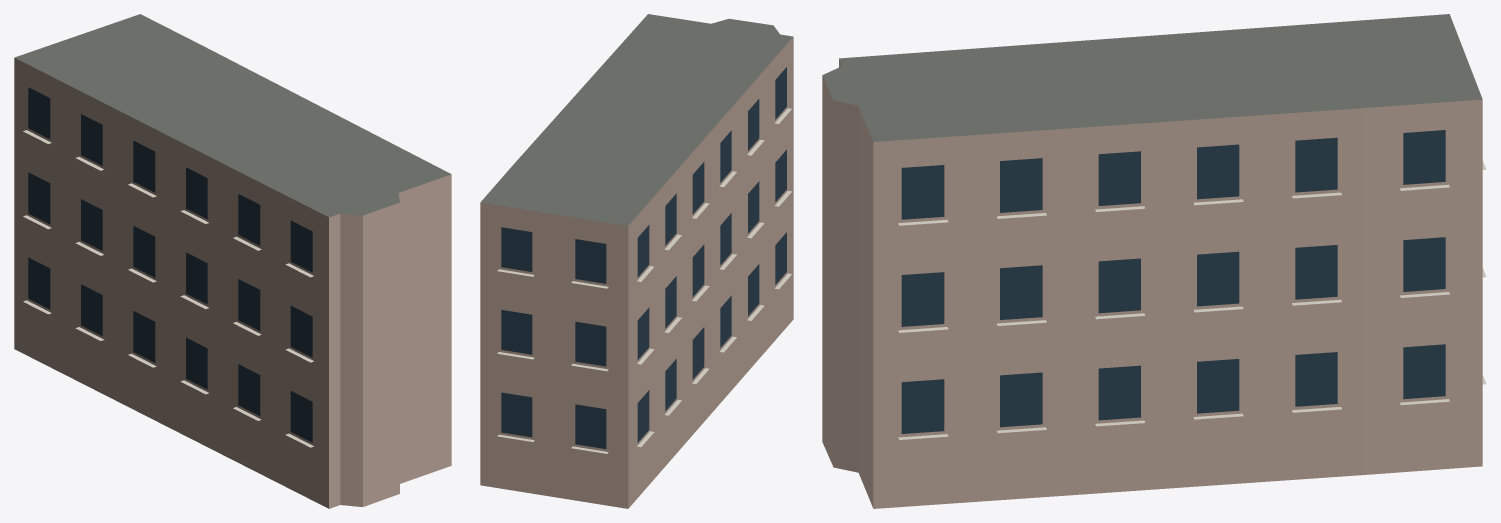
The picture shows the model from 3 angles, left to right: view 1: azimuth 30°, elevation 25°; view 2: azimuth 150°, elevation 25°; view 3: azimuth 270°, elevation 25°; orthographic projection. The views are drawn at different scales.
Parts seen in each view (by area): view 1: Footprint 0, Inferred window bays, Window sills; view 2: Footprint 0, Inferred window bays, Window sills; view 3: Footprint 0, Inferred window bays, Window sills.
Part boxes in pixels (<box>): Footprint 0: <box>14,14,451,508</box>; Inferred window bays: <box>28,87,312,442</box>; Window sills: <box>23,130,313,447</box>; Footprint 0: <box>480,14,793,508</box>; Inferred window bays: <box>501,67,786,448</box>; Window sills: <box>497,108,791,453</box>; Footprint 0: <box>822,14,1482,508</box>; Inferred window bays: <box>901,130,1445,433</box>; Window sills: <box>898,160,1486,439</box>.
Bounding box in the file's own units: 8.95 × 11.66 × 19.14.
